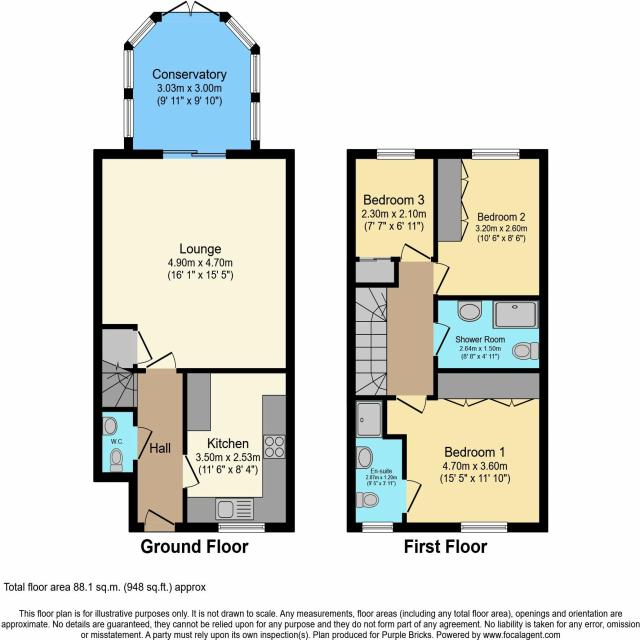DOOR: (143, 507, 176, 533), (145, 349, 178, 374), (133, 425, 155, 461), (402, 478, 423, 514), (399, 241, 432, 263), (433, 321, 452, 357), (182, 453, 201, 489), (432, 261, 451, 296), (395, 395, 428, 415)
DOUBLE DOOR: (160, 0, 224, 22)
ROOM: (93, 149, 295, 374), (382, 368, 549, 533), (123, 0, 261, 159), (182, 368, 295, 533), (433, 149, 549, 301), (346, 149, 439, 288)
SLIDING DOOR: (160, 147, 229, 159)
WINDOW: (223, 14, 259, 52), (126, 13, 158, 50), (471, 148, 521, 161), (460, 521, 509, 534), (249, 100, 263, 143), (249, 53, 263, 94), (123, 48, 136, 90), (217, 522, 266, 533), (375, 148, 416, 160), (123, 97, 135, 138), (362, 521, 394, 533)
